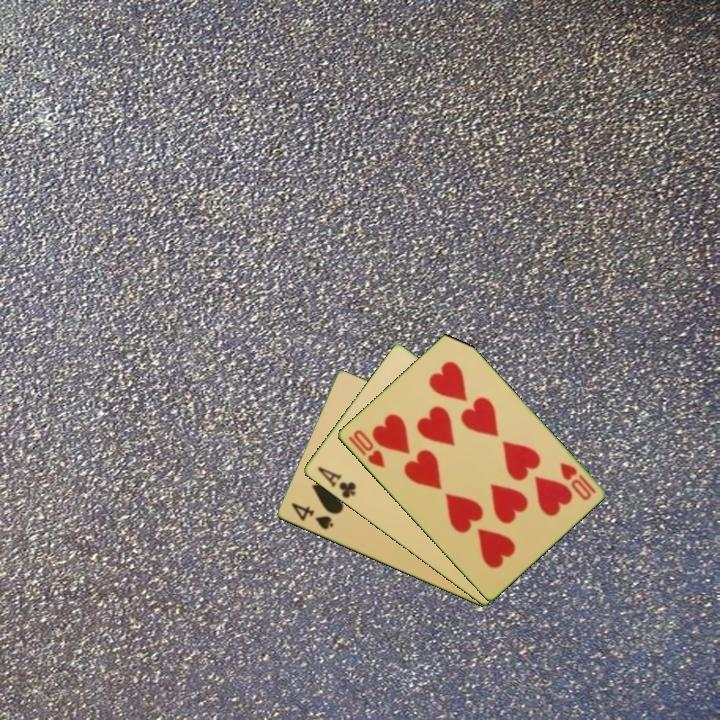10h: (345, 426, 388, 471), (556, 459, 599, 503)
4s: (287, 499, 336, 533)
Ac: (313, 463, 359, 502)
